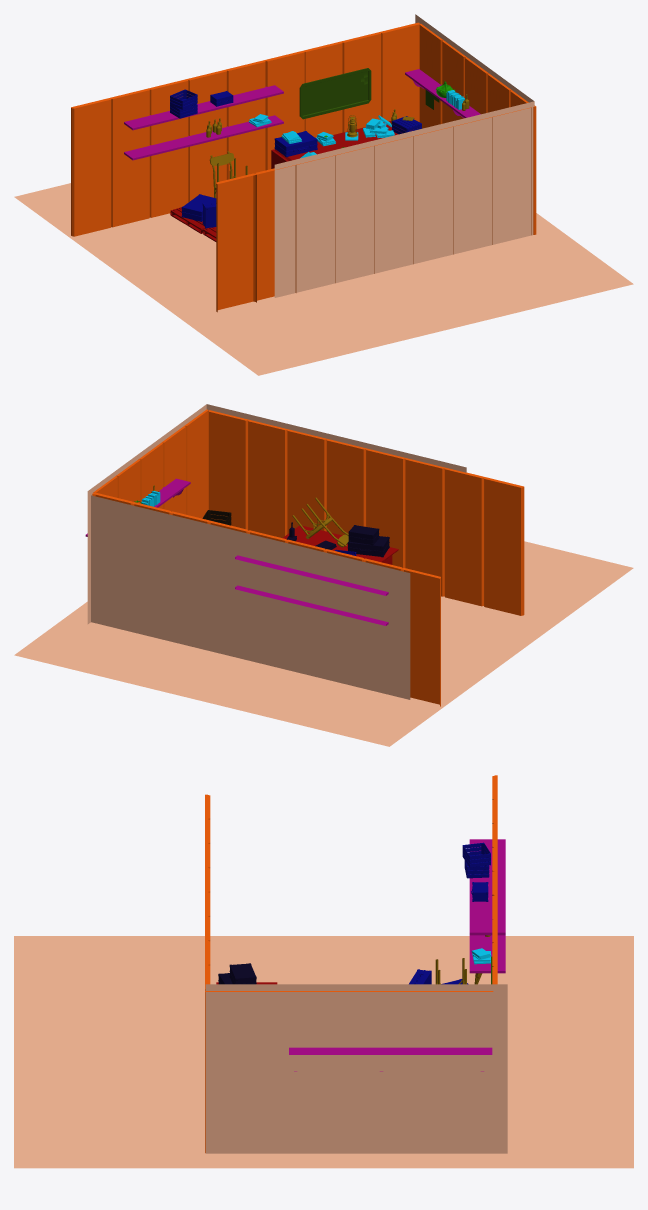
Rendered from planque_anna_pack.FBX.
The picture shows the model from 3 angles, top to bottom: view 1: azimuth 30°, elevation 25°; view 2: azimuth 150°, elevation 25°; view 3: azimuth 270°, elevation 25°; orthographic projection. The views are drawn at different scales.
Parts seen in each view (by area): view 1: sol, mur_fenetre, Box039, Box055, Box038, Box037, Box031, Box035, Box036, Box061, Box054, tableau (+12 smaller); view 2: mur_gauche, sol, Box055, Box054, Box053, Box049, Box048, Box039, Box052, Box050, Box051, mur_fenetre (+10 smaller); view 3: sol, mur_fenetre, Box057, Box056, Box047, Box021, cagette005.
Part boxes in pixels (<box>): sol: <box>14,183,633,375</box>; mur_fenetre: <box>274,14,534,297</box>; Box039: <box>71,98,111,236</box>; Box055: <box>216,173,256,312</box>; Box038: <box>110,88,149,227</box>; Box037: <box>149,79,188,217</box>; Box031: <box>379,22,419,122</box>; Box035: <box>225,60,265,179</box>; Box036: <box>188,70,226,202</box>; Box061: <box>265,51,304,170</box>; Box054: <box>255,165,296,302</box>; tableau: <box>299,68,371,119</box>; mur_gauche: <box>91,495,410,699</box>; sol: <box>14,541,633,746</box>; Box055: <box>484,477,524,615</box>; Box054: <box>444,467,484,606</box>; Box053: <box>405,458,444,596</box>; Box049: <box>248,419,287,537</box>; Box048: <box>208,410,248,530</box>; Box039: <box>400,568,440,706</box>; Box052: <box>366,448,405,567</box>; Box050: <box>287,429,326,533</box>; Box051: <box>326,439,366,535</box>; mur_fenetre: <box>87,404,466,624</box>; sol: <box>14,936,633,1168</box>; mur_fenetre: <box>205,984,507,1153</box>; Box057: <box>469,839,505,935</box>; Box056: <box>469,935,505,973</box>; Box047: <box>289,1047,391,1054</box>; Box021: <box>390,1047,492,1054</box>; cagette005: <box>462,842,490,867</box>.
Bounding box in the file's own units: 1780 × 750 × 2007.
